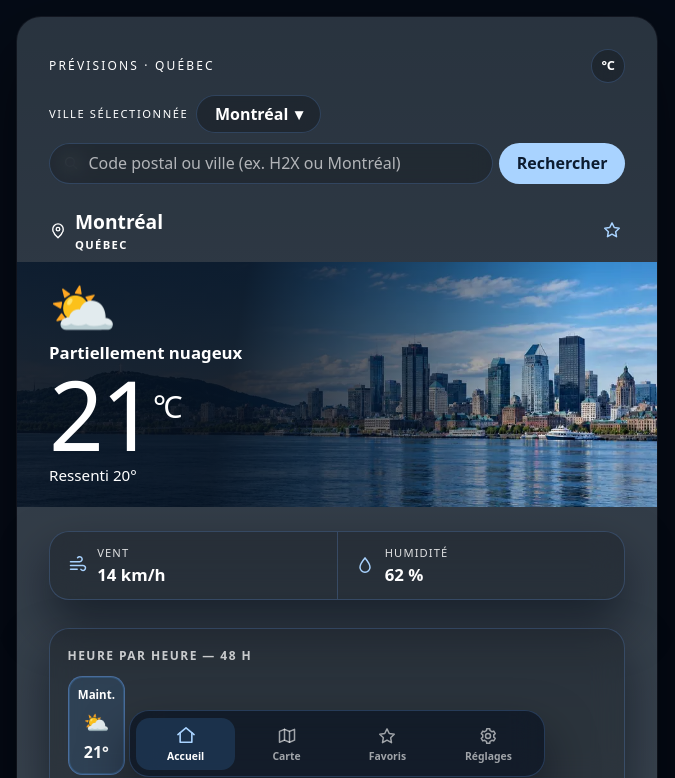
Test: App — une erreur ne doit pas effacer les données affichées › garde les prévisions à l’écran et ajoute un bandeau
expect the text "Partiellement nuageux" is shown: met, box [49,341,242,364]
Click the button with aria-label "Choisir une ville". click: (259, 114)
box: [196,95,321,133]
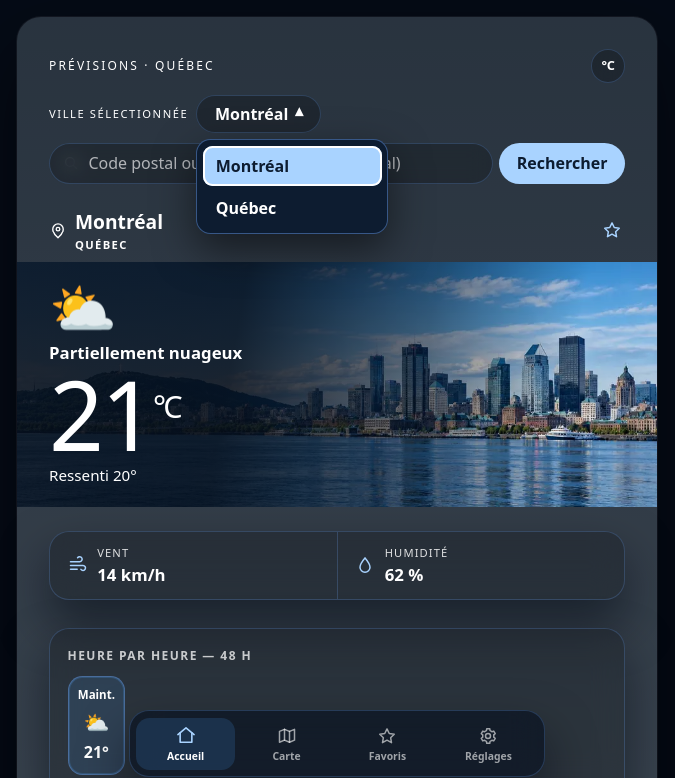
Click the menu item "Québec". click: (292, 208)
box: [203,188,382,228]
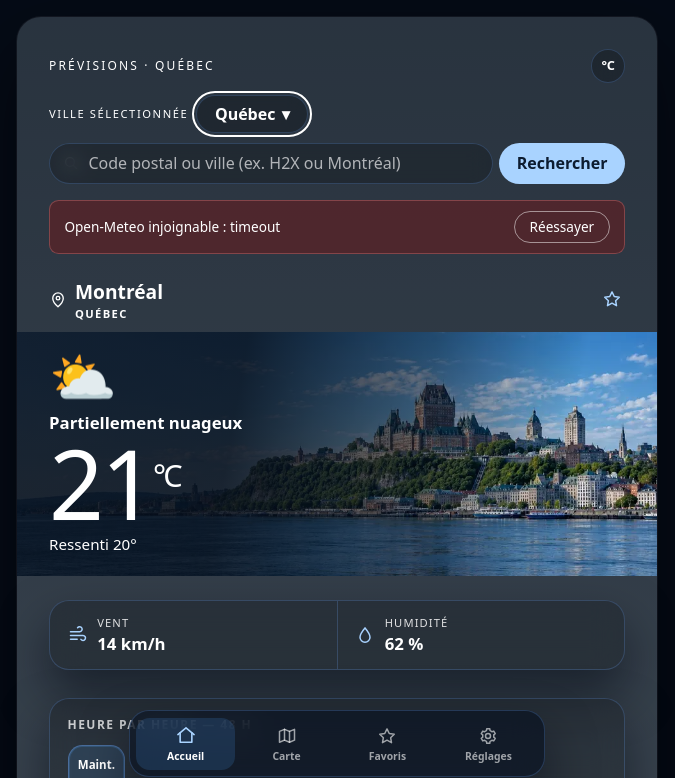
expect the text "Partiellement nuageux" is shown: met, box [49,411,242,434]
expect the text "Open-Meteo injoignable : timeout" is shown: met, box [64,217,280,236]
expect the button "Réessayer" is shown: met, box [514,211,610,243]
